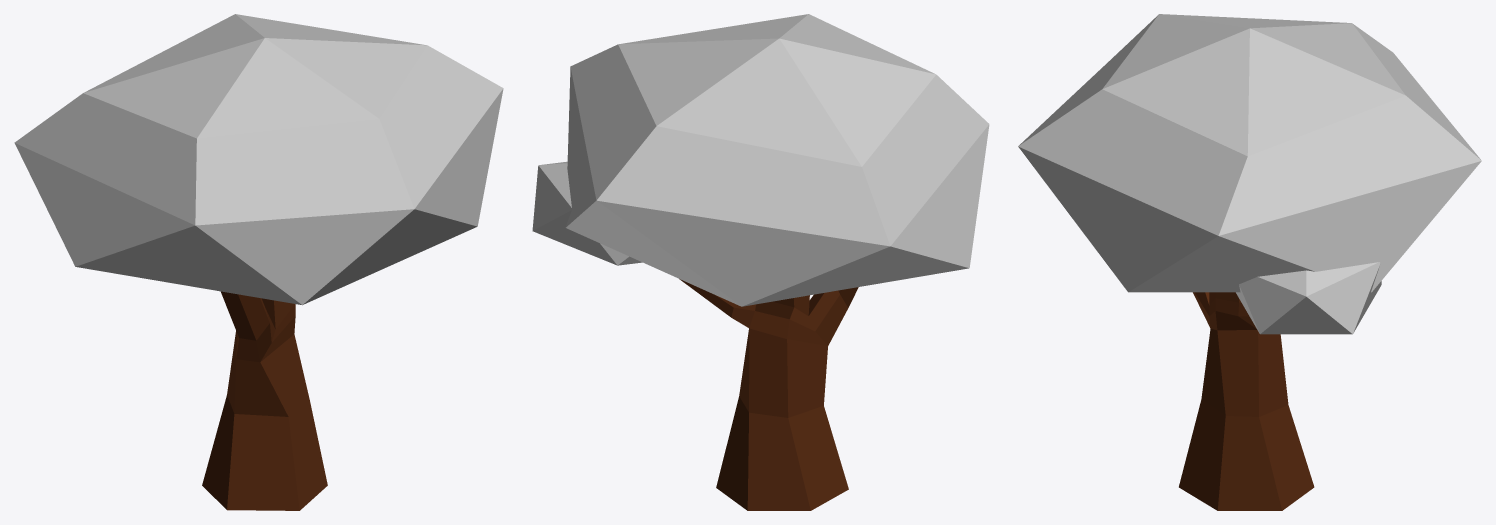
File: T_Oak1Snow.fbx
3 views of the same model, side by side, from view 1: azimuth 30°, elevation 25°; view 2: azimuth 150°, elevation 25°; view 3: azimuth 270°, elevation 25° (orthographic). The views are drawn at different scales.
Parts seen in each view (by area): view 1: Icosphere; view 2: Icosphere; view 3: Icosphere.
Part boxes in pixels (<box>): Icosphere: <box>14,14,503,510</box>; Icosphere: <box>532,14,989,510</box>; Icosphere: <box>1018,14,1481,510</box>.
Bounding box in the file's own units: 7.05 × 7.3 × 6.68.
